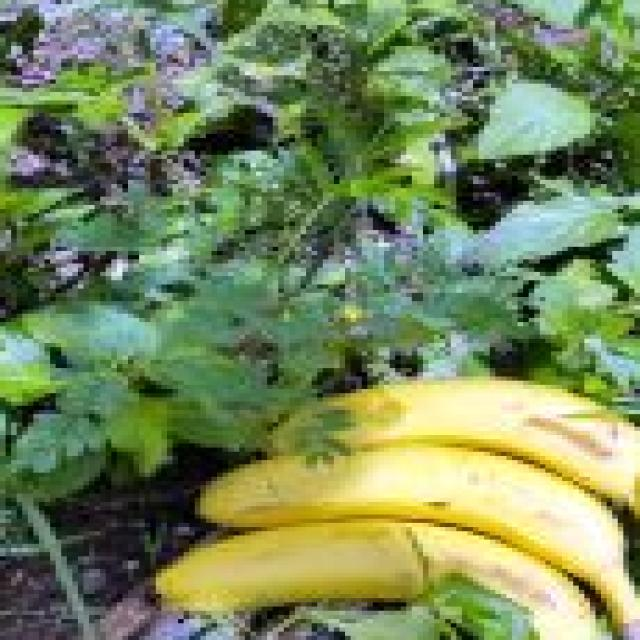Good_Banana-2-3 days: (159, 376, 640, 640)
